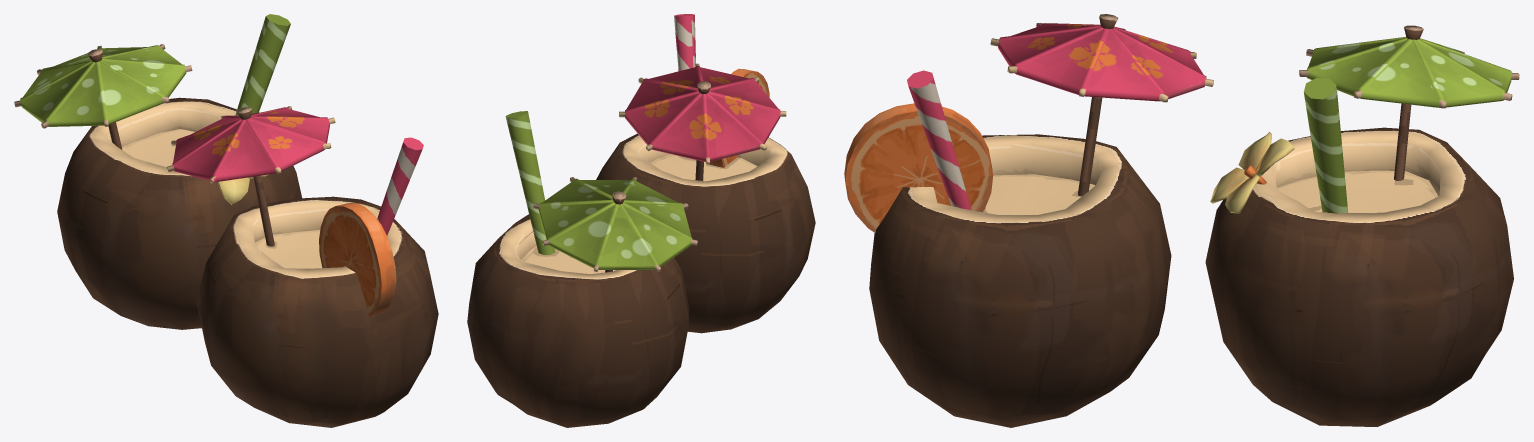
File: cocktail.glb
3 renders of one model, left to right at view 1: azimuth 30°, elevation 25°; view 2: azimuth 150°, elevation 25°; view 3: azimuth 270°, elevation 25°, orthographic. The views are drawn at different scales.
Parts seen in each view (by area): view 1: Object_2, Object_3; view 2: Object_3, Object_2; view 3: Object_2, Object_3.
Part boxes in pixels (left/top/right/bottom): Object_2: left=167, top=106, right=438, bottom=427; Object_3: left=14, top=14, right=301, bottom=329; Object_3: left=467, top=111, right=697, bottom=427; Object_2: left=596, top=14, right=815, bottom=333; Object_2: left=844, top=14, right=1213, bottom=427; Object_3: left=1205, top=25, right=1519, bottom=426.
Size of the model in its own units: 0.201 by 0.2371 by 0.3866.
2 materials, 2 textured.
